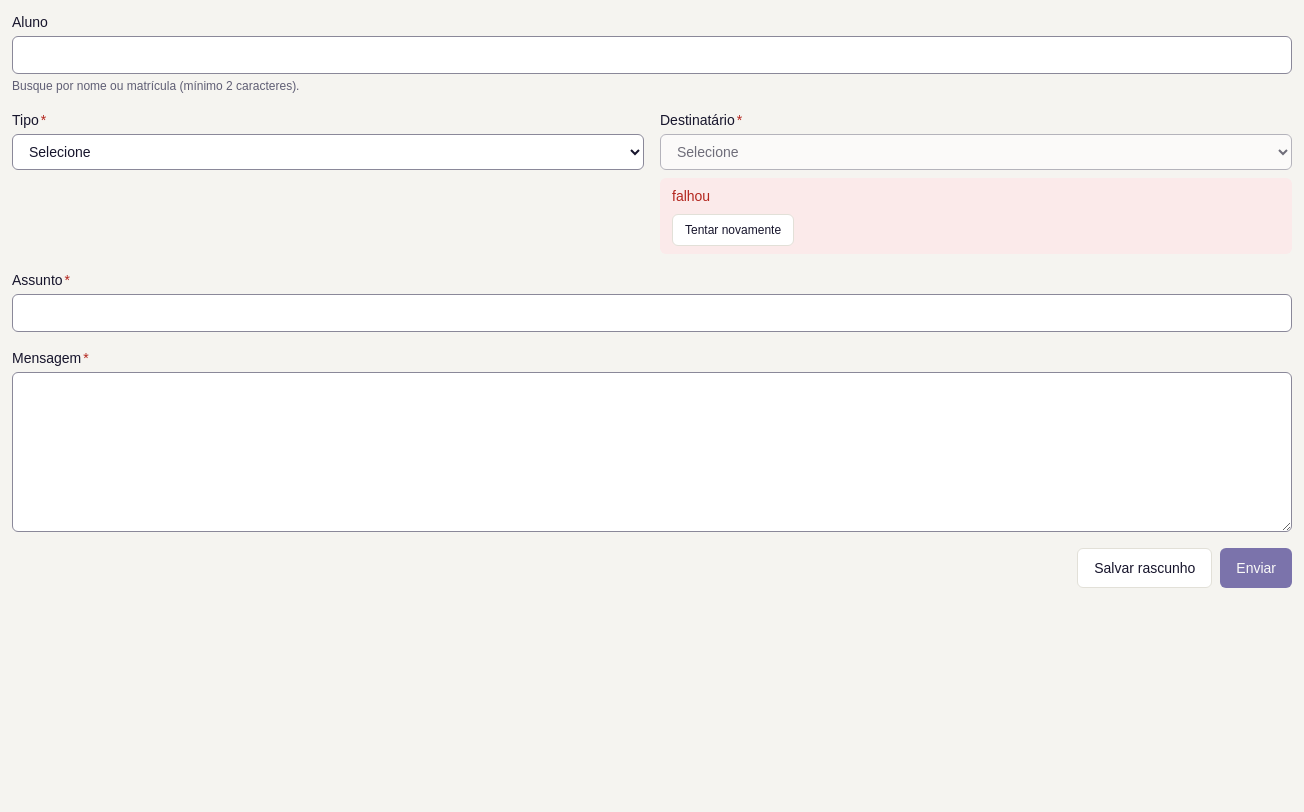
Test: EscreverMensagem › Falha_na_lista_de_destinatarios_oferece_tentar_novamente
Step 1. Click the button "Tentar novamente" → x=733, y=230, box [672,214,794,246]
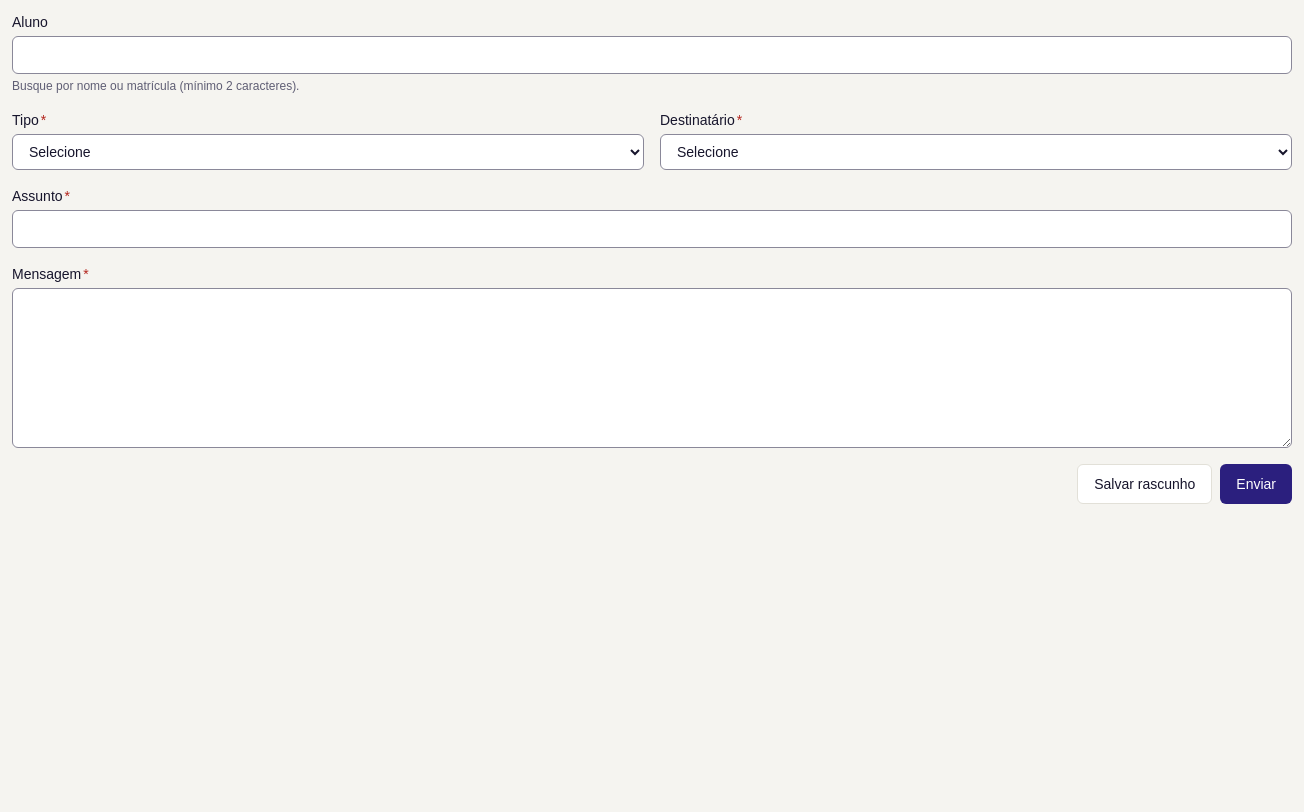
Result: the button "Tentar novamente" is gone
